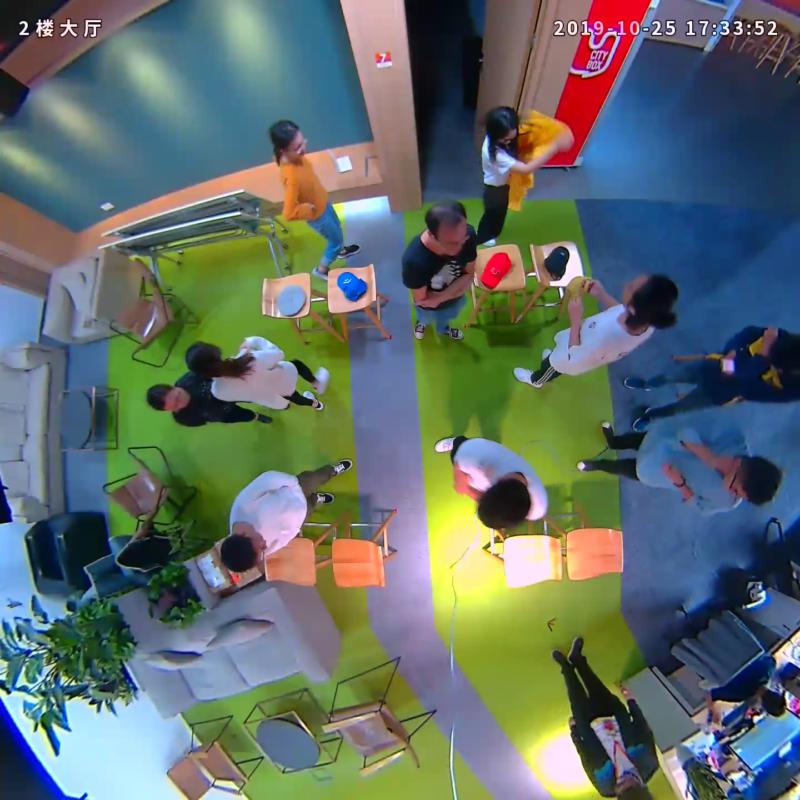head: (722, 454, 783, 507), (476, 479, 532, 530), (623, 273, 678, 320), (425, 201, 468, 253), (220, 533, 268, 572), (269, 120, 308, 161), (486, 105, 519, 146), (185, 339, 221, 375), (146, 382, 190, 411)
